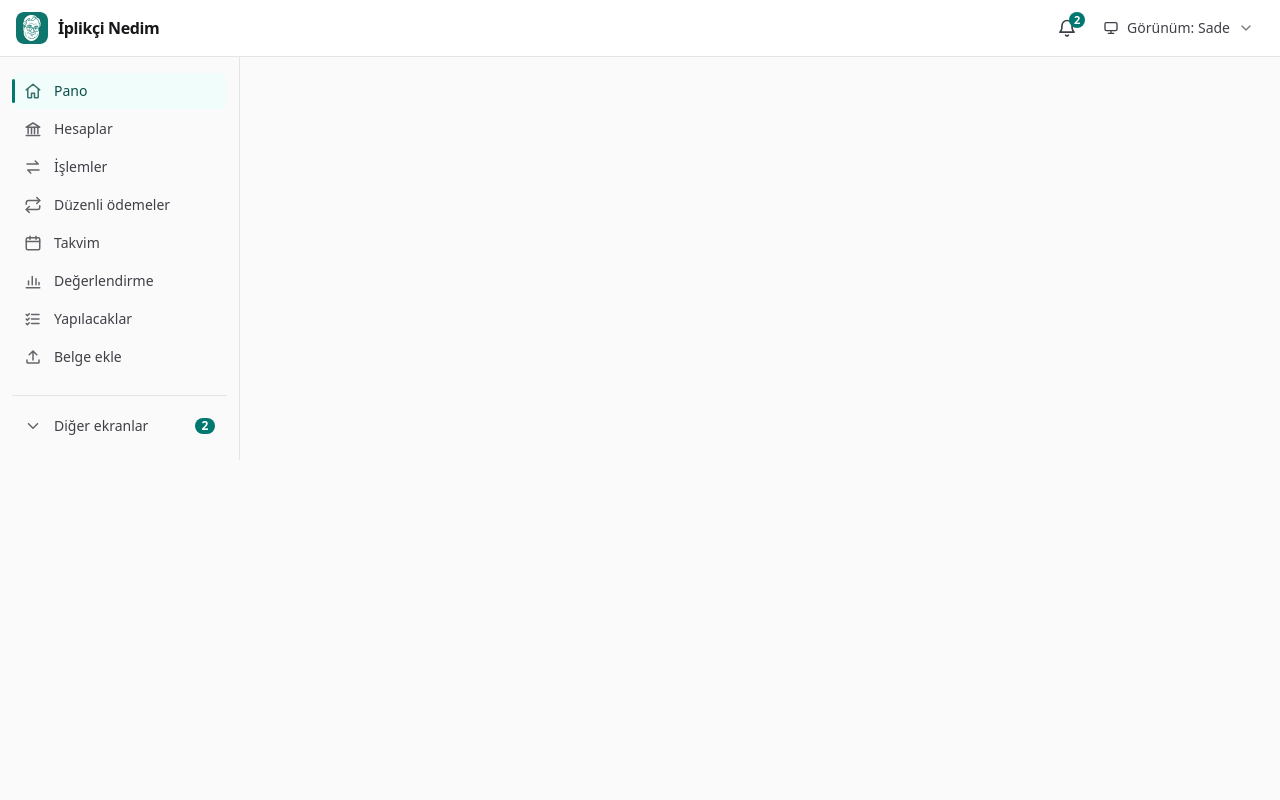
Layout › switches the theme from the header's display panel and remembers it
Click the button "Görünüm: Sade" at [1179, 28], box [1093, 6, 1264, 50]
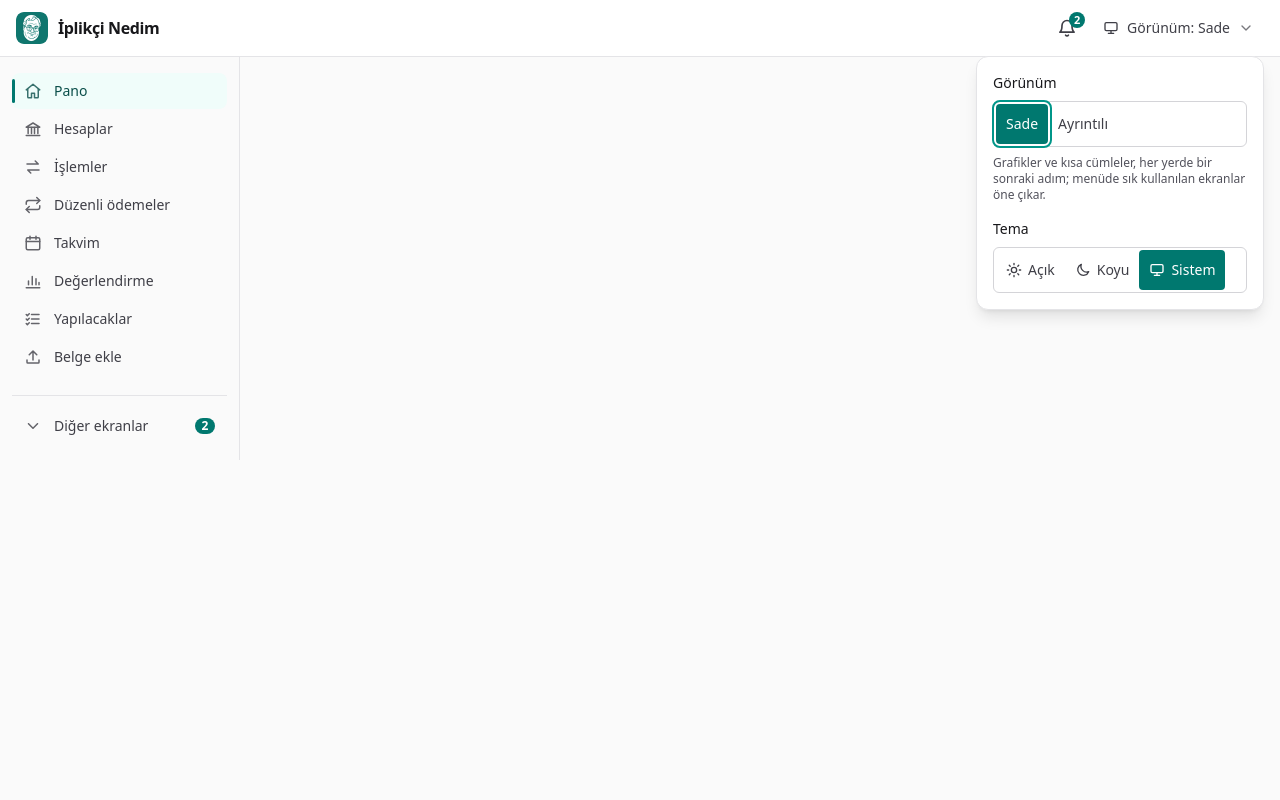
Expected: the radio button labelled "Sistem" is checked, [1139, 250, 1225, 290]
Click the radio button labelled "Koyu" at [1102, 270], box [1075, 260, 1130, 279]
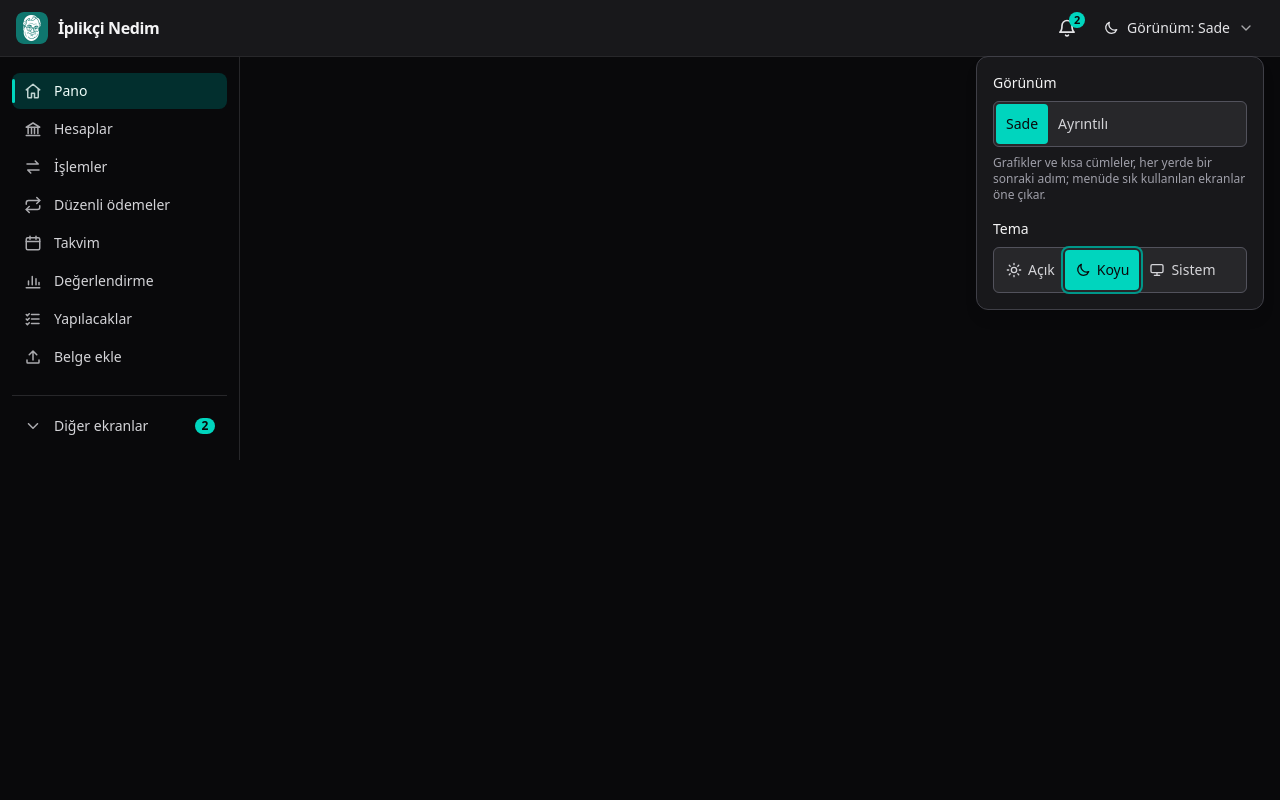
# The arrow keys move between the choices, as in any radio group.
Press Arrowright
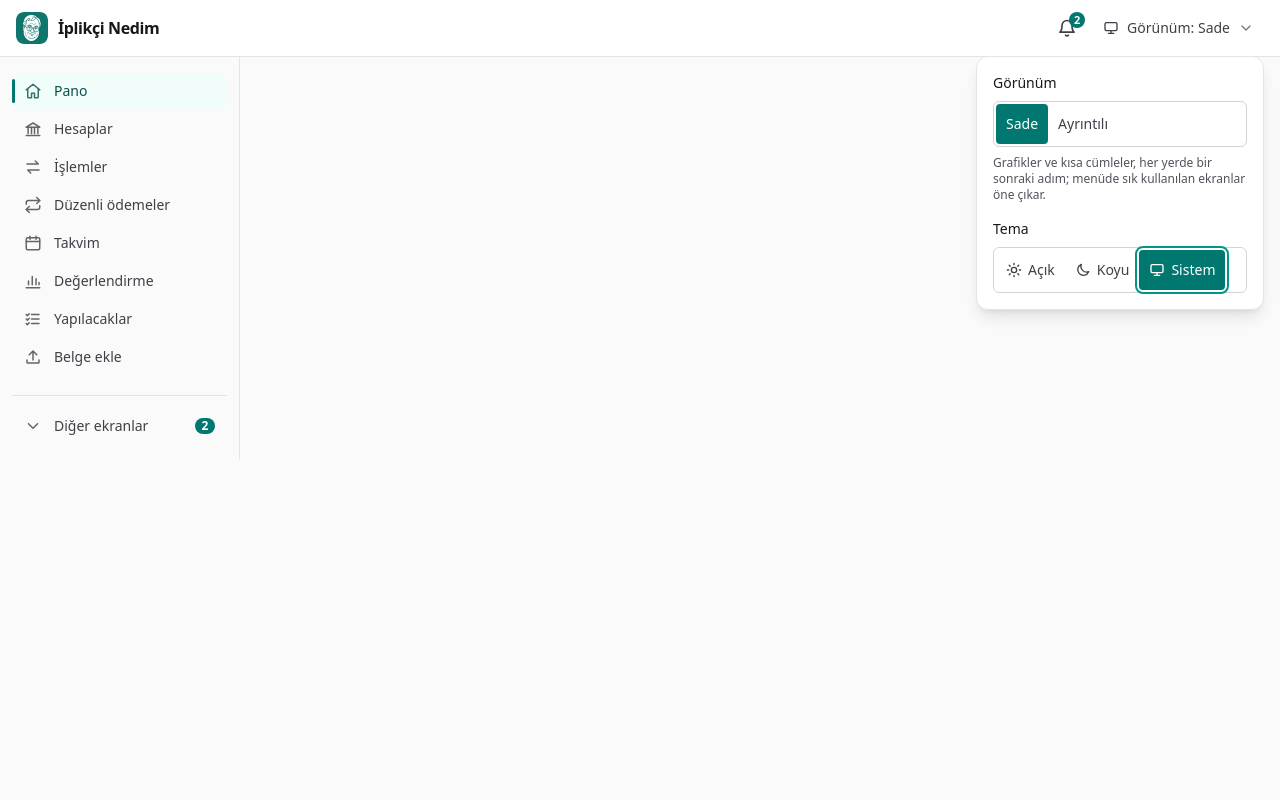
Expected: the radio button labelled "Sistem" is checked, [1139, 250, 1225, 290]
